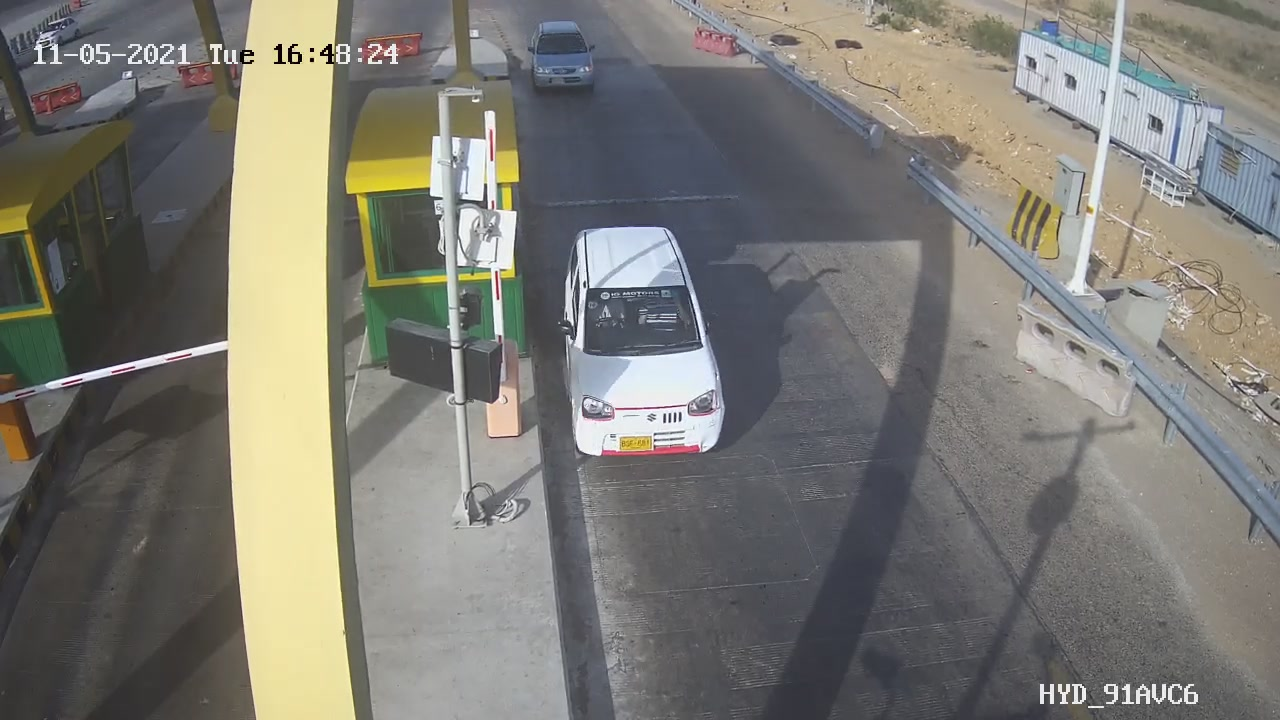F1: (547, 216, 743, 475), (518, 16, 612, 100)
